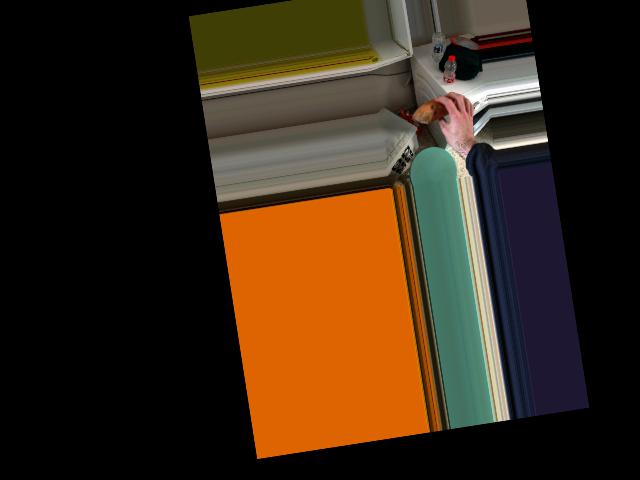sweet_potato: (412, 96, 462, 124)
